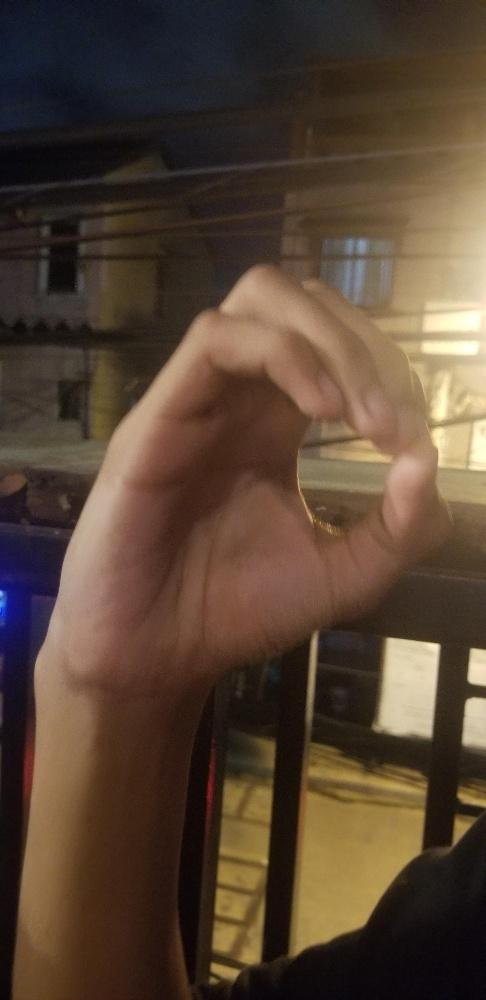o: (53, 264, 441, 689)
